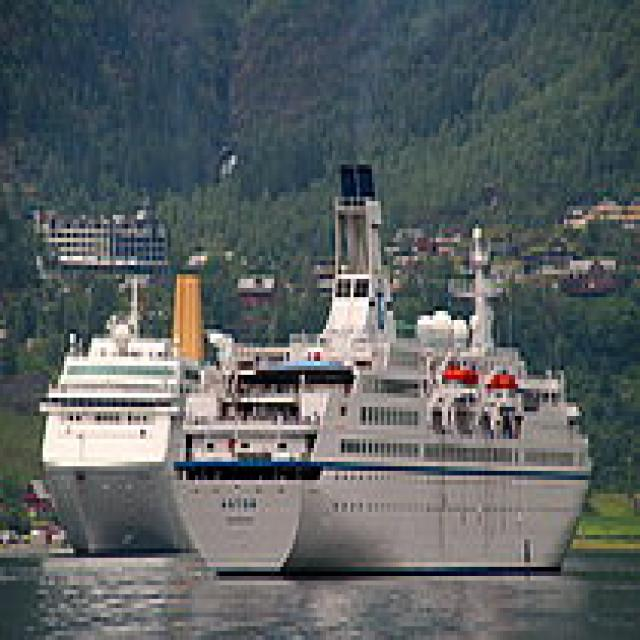Cruise: (165, 155, 591, 580), (34, 270, 204, 553)
